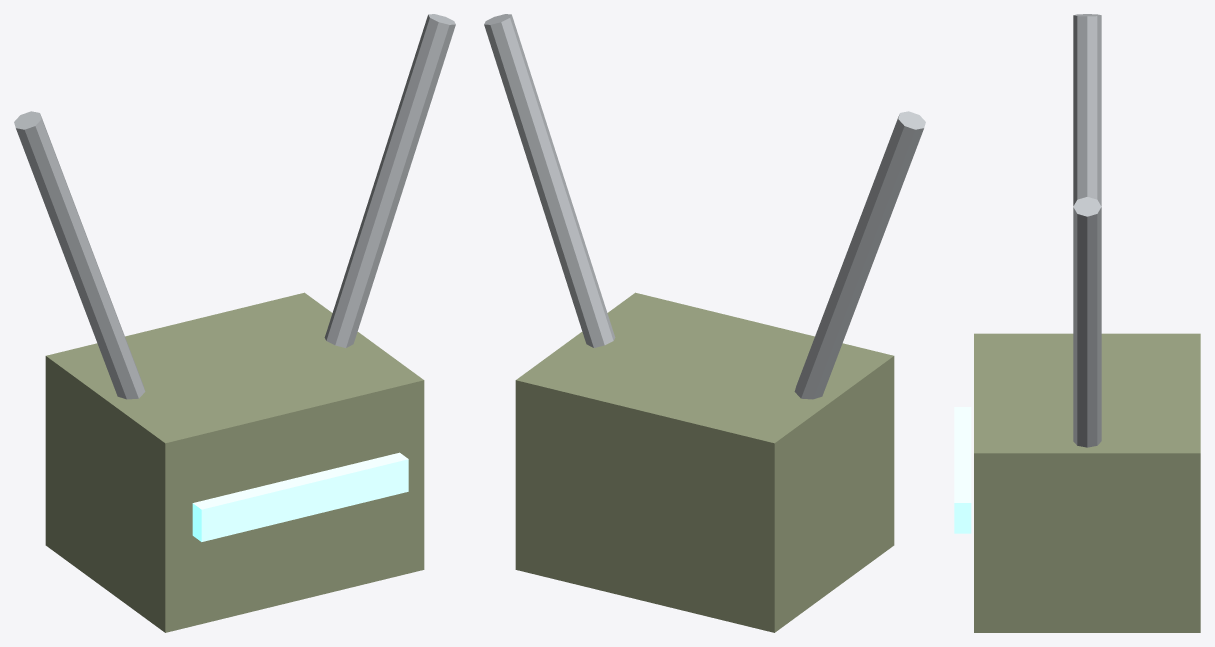
The model's file is mech-hangar-and-battle-frames-antenna-crown-head-9db40e7e__26908.glb.
3 renders of one model, left to right at view 1: azimuth 30°, elevation 25°; view 2: azimuth 150°, elevation 25°; view 3: azimuth 270°, elevation 25°, orthographic. The views are drawn at different scales.
Parts seen in each view (by area): view 1: antenna-crown-head; view 2: antenna-crown-head; view 3: antenna-crown-head.
Boxes of the visible parts, box(x1,y1,x2,y2) form: antenna-crown-head: box(14, 14, 455, 632); antenna-crown-head: box(484, 14, 925, 632); antenna-crown-head: box(954, 14, 1200, 632).
Size of the model in its own units: 0.847 by 0.9085 by 0.435.
